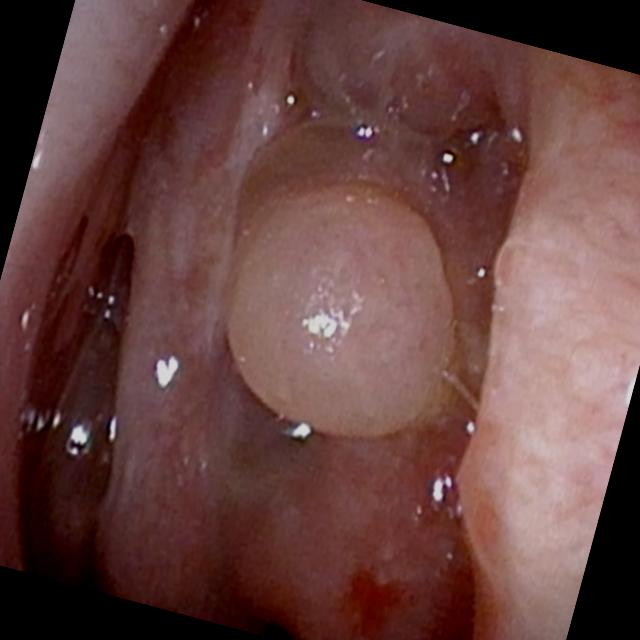OPENING: (57, 204, 160, 572)
POLYPS: (227, 184, 467, 432), (225, 448, 479, 640), (304, 30, 498, 176)
